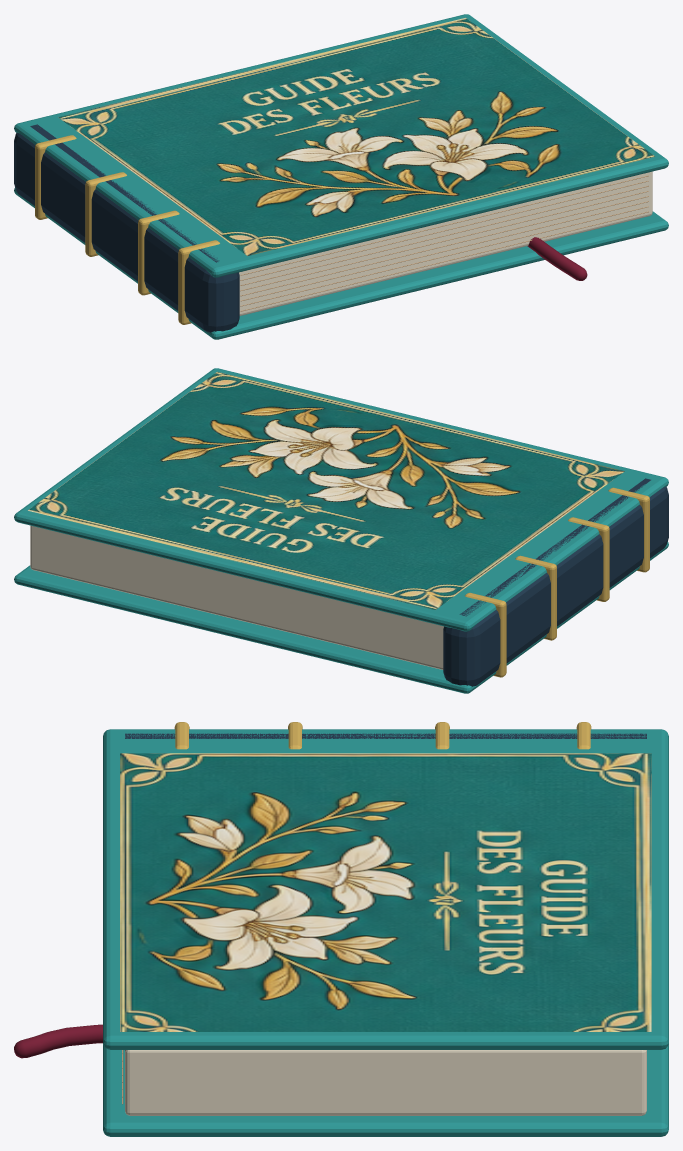
File: botanical_book_teal.glb
3 renders of one model, top to bottom at view 1: azimuth 30°, elevation 25°; view 2: azimuth 150°, elevation 25°; view 3: azimuth 270°, elevation 25°, orthographic. The views are drawn at different scales.
Parts seen in each view (by area): view 1: Flat_book_cover, Ivory_pageblock, Hardbound_cover.001, Rounded_bound_spine, Hardbound_cover, Ribbon_bookmark, Raised_binding_rib.001, Raised_binding_rib.003, Raised_binding_rib.002, Raised_binding_rib, Fore_edge_page_line.001, Fore_edge_page_line.002 (+6 smaller); view 2: Flat_book_cover, Ivory_pageblock, Hardbound_cover.001, Rounded_bound_spine, Hardbound_cover, Raised_binding_rib.002, Raised_binding_rib, Raised_binding_rib.003, Raised_binding_rib.001; view 3: Flat_book_cover, Ivory_pageblock, Hardbound_cover.001, Hardbound_cover, Rounded_bound_spine, Ribbon_bookmark.
Boxes of the visible parts, x1,y1,x2,y2 form: Flat_book_cover: [58, 17, 654, 255]; Ivory_pageblock: [239, 171, 652, 315]; Hardbound_cover.001: [14, 14, 668, 277]; Rounded_bound_spine: [14, 124, 239, 332]; Hardbound_cover: [14, 187, 668, 339]; Ribbon_bookmark: [527, 237, 587, 280]; Raised_binding_rib.001: [85, 172, 126, 256]; Raised_binding_rib.003: [178, 240, 219, 324]; Raised_binding_rib.002: [138, 210, 179, 295]; Raised_binding_rib: [35, 135, 76, 219]; Fore_edge_page_line.001: [240, 206, 648, 306]; Fore_edge_page_line.002: [240, 201, 648, 301]; Flat_book_cover: [28, 371, 624, 609]; Ivory_pageblock: [30, 525, 443, 669]; Hardbound_cover.001: [14, 368, 668, 631]; Rounded_bound_spine: [443, 478, 668, 686]; Hardbound_cover: [14, 541, 668, 693]; Raised_binding_rib.002: [568, 517, 609, 601]; Raised_binding_rib: [465, 592, 506, 677]; Raised_binding_rib.003: [608, 487, 649, 572]; Raised_binding_rib.001: [515, 555, 556, 640]; Flat_book_cover: [120, 753, 651, 1031]; Ivory_pageblock: [125, 1050, 646, 1115]; Hardbound_cover.001: [103, 729, 668, 1049]; Hardbound_cover: [103, 1043, 668, 1136]; Rounded_bound_spine: [125, 733, 646, 738]; Ribbon_bookmark: [14, 1024, 102, 1058].
Bounding box in the file's own units: 0.304 × 0.047 × 0.2661.
Materials: 8 (1 with a texture image).
